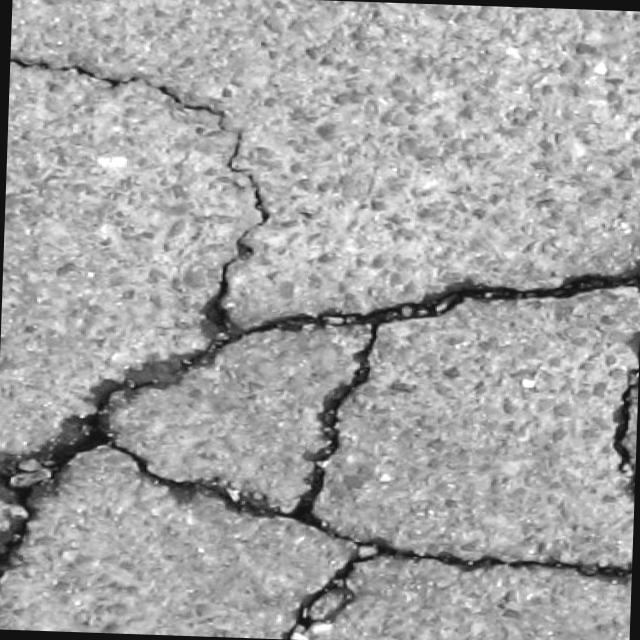crack: (274, 336, 410, 640), (268, 242, 640, 347), (0, 414, 279, 524), (7, 54, 250, 168), (192, 166, 274, 367), (400, 541, 630, 586), (85, 358, 191, 421), (608, 364, 638, 508), (0, 513, 39, 599)
